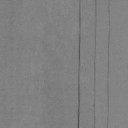surface scratch: (78, 0, 82, 128), (94, 0, 97, 93), (106, 80, 110, 128), (107, 28, 110, 78), (92, 98, 96, 128), (108, 0, 110, 27)
